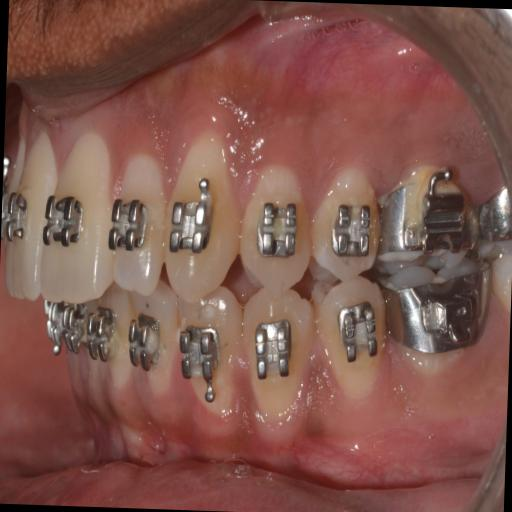correct_brace: (234, 282, 320, 428), (236, 156, 315, 298), (166, 169, 218, 265), (245, 314, 298, 392), (334, 296, 380, 374), (110, 189, 154, 262)
incorrect_brace: (103, 153, 163, 300), (250, 196, 304, 266)
